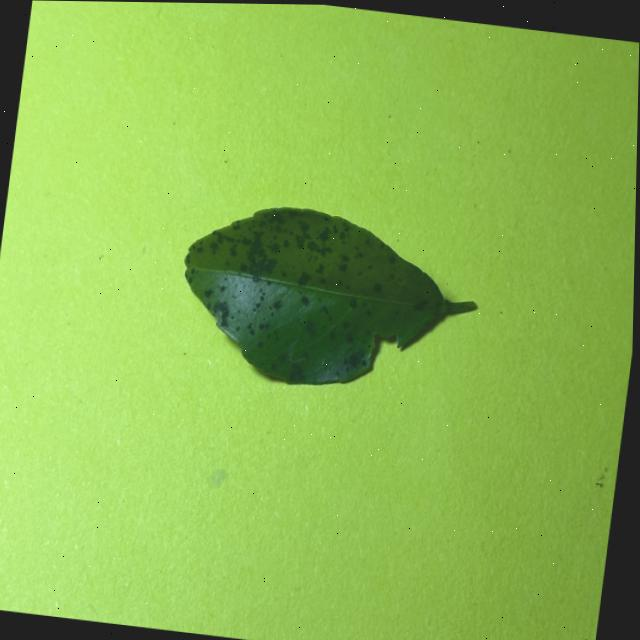sooty_mold: (185, 206, 474, 383)
